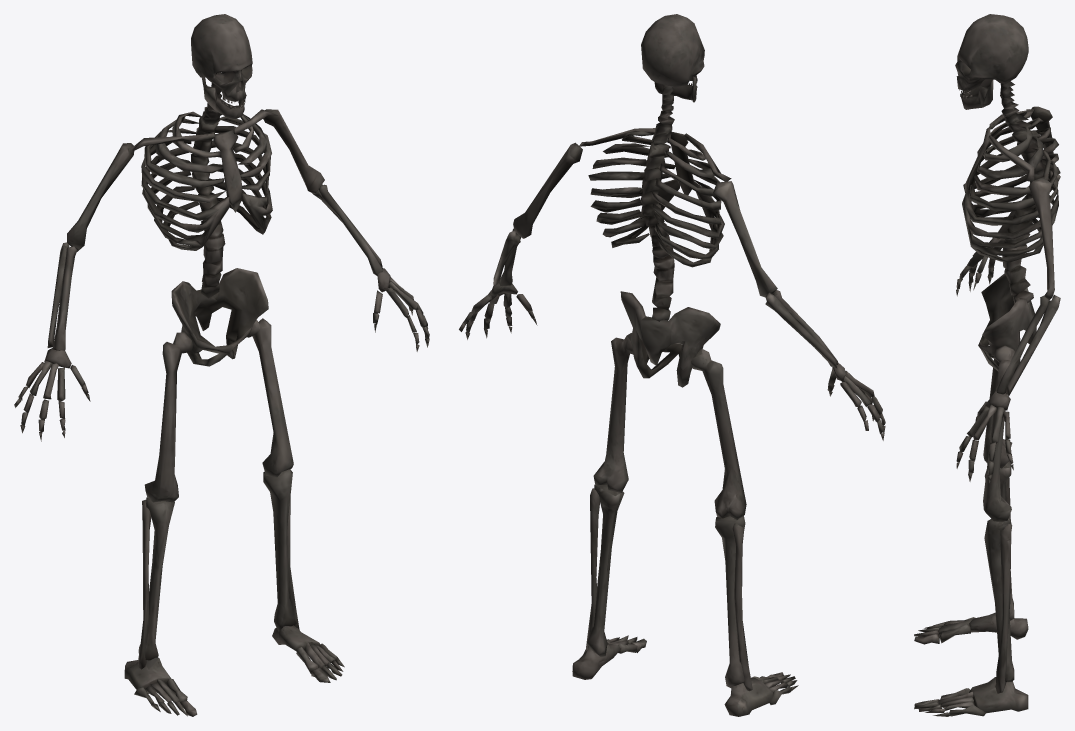
File: Skeleton.fbx
3 views of the same model, side by side, from view 1: azimuth 30°, elevation 25°; view 2: azimuth 150°, elevation 25°; view 3: azimuth 270°, elevation 25° (orthographic). The views are drawn at different scales.
Visible parts, largest first — view 1: Skeleton_Torso, Skeleton_Shin_R, Skeleton_Head, Skeleton_Shin_L, Skeleton_Forearm_R, Skeleton_Leg_R, Skeleton_Leg_L, Skeleton_Forearm_L, Skeleton_Arm_R, Skeleton_Arm_L; view 2: Skeleton_Torso, Skeleton_Shin_R, Skeleton_Head, Skeleton_Shin_L, Skeleton_Leg_R, Skeleton_Leg_L, Skeleton_Forearm_R, Skeleton_Forearm_L, Skeleton_Arm_R, Skeleton_Arm_L; view 3: Skeleton_Torso, Skeleton_Shin_L, Skeleton_Head, Skeleton_Forearm_L, Skeleton_Shin_R, Skeleton_Leg_L, Skeleton_Arm_L, Skeleton_Forearm_R, Skeleton_Leg_R, Skeleton_Arm_R.
Part boxes in pixels (box(x1,y1,x2,y2)): Skeleton_Torso: box(131, 103, 277, 366); Skeleton_Shin_R: box(124, 497, 197, 716); Skeleton_Head: box(191, 14, 252, 124); Skeleton_Shin_L: box(263, 469, 344, 682); Skeleton_Forearm_R: box(14, 242, 90, 441); Skeleton_Leg_R: box(144, 332, 193, 502); Skeleton_Leg_L: box(247, 318, 293, 477); Skeleton_Forearm_L: box(312, 184, 429, 351); Skeleton_Arm_R: box(67, 143, 134, 251); Skeleton_Arm_L: box(263, 109, 324, 194); Skeleton_Torso: box(579, 128, 731, 387); Skeleton_Shin_R: box(715, 516, 798, 716); Skeleton_Head: box(641, 14, 704, 145); Skeleton_Shin_L: box(572, 484, 646, 679); Skeleton_Leg_R: box(691, 348, 746, 519); Skeleton_Leg_L: box(593, 333, 633, 492); Skeleton_Forearm_R: box(765, 290, 885, 440); Skeleton_Forearm_L: box(459, 228, 537, 339); Skeleton_Arm_R: box(713, 181, 777, 297); Skeleton_Arm_L: box(513, 142, 582, 238); Skeleton_Torso: box(962, 109, 1060, 374); Skeleton_Shin_L: box(914, 516, 1028, 716); Skeleton_Head: box(955, 14, 1031, 132); Skeleton_Forearm_L: box(956, 295, 1060, 482); Skeleton_Shin_R: box(914, 461, 1028, 644); Skeleton_Leg_L: box(983, 345, 1015, 521); Skeleton_Arm_L: box(1029, 177, 1054, 300); Skeleton_Forearm_R: box(956, 174, 1060, 296); Skeleton_Leg_R: box(983, 359, 1012, 468); Skeleton_Arm_R: box(1031, 106, 1053, 153).
Size of the model in its own units: 126 by 194 by 39.17.
